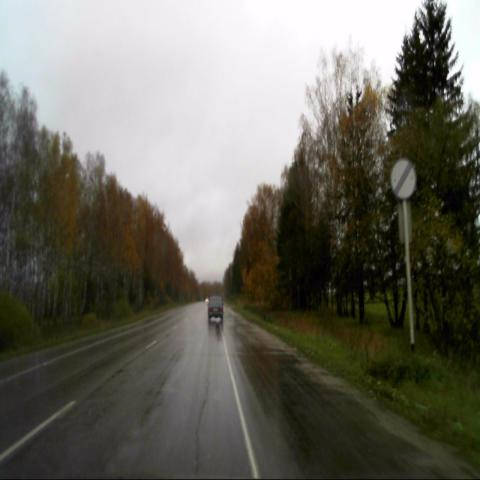3_31: (390, 158, 416, 199)
